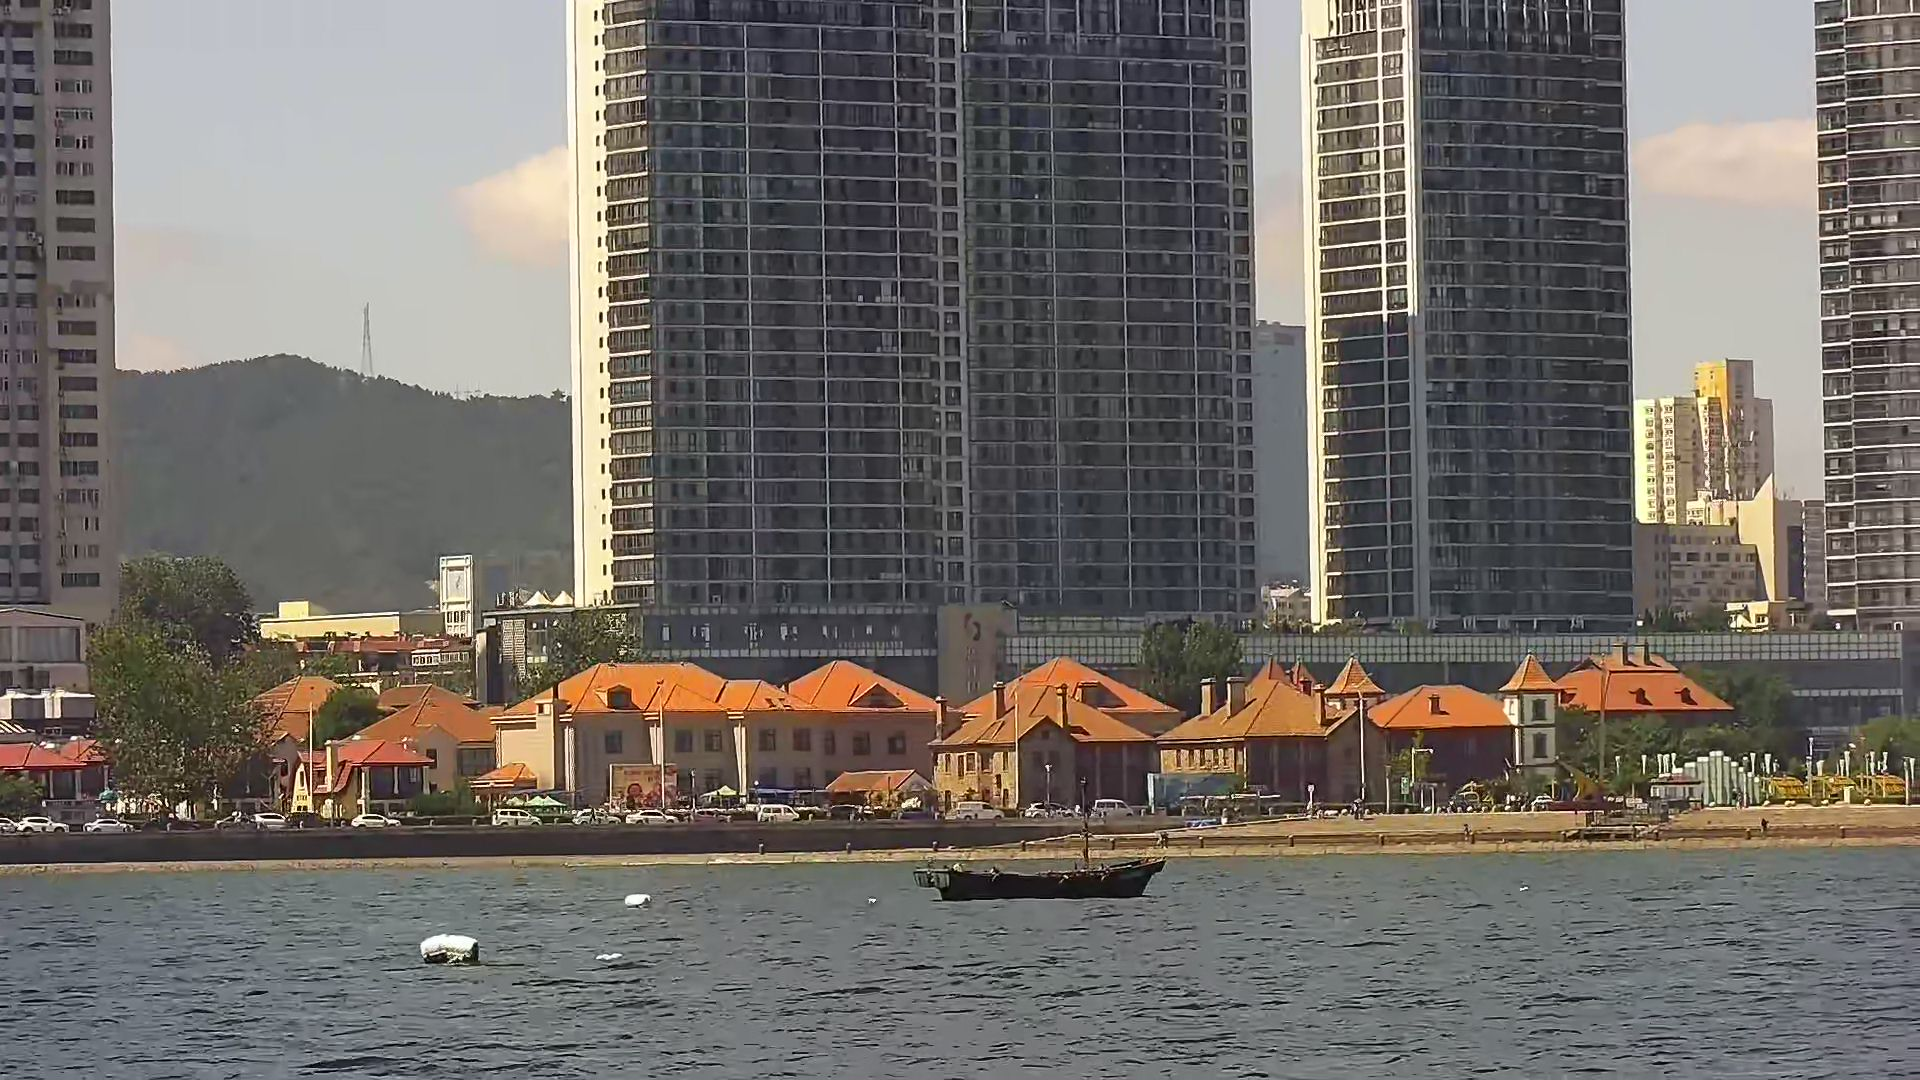boat: (916, 858, 1164, 903)
rubbish: (418, 934, 484, 967), (624, 890, 650, 911)
